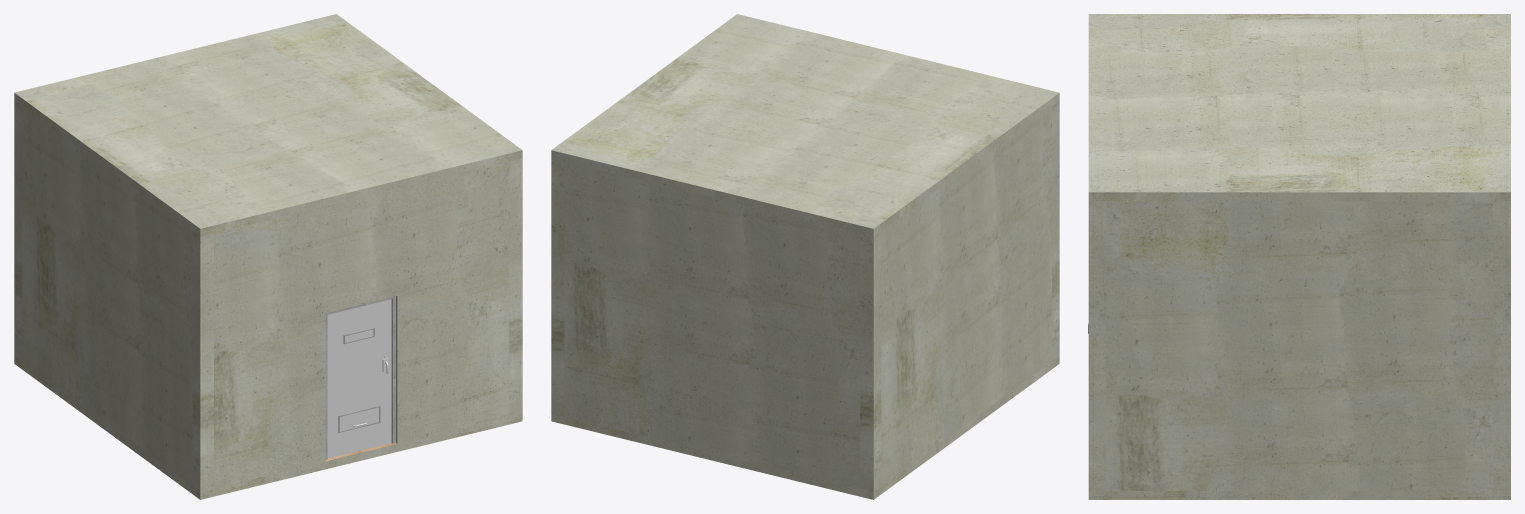
File: Cell1.fbx
3 renders of one model, left to right at view 1: azimuth 30°, elevation 25°; view 2: azimuth 150°, elevation 25°; view 3: azimuth 270°, elevation 25°, orthographic. The views are drawn at different scales.
Visible parts, largest first — view 1: Wall.016, Wall.020, Wall.017, Cube.001, Wall.013, Wall.011, Wall.012, Wall.015, Door; view 2: Wall.019, Wall.020, Wall.017, Wall.015, Wall.011, Wall.014, Wall.013; view 3: Wall.018, Wall.020, Wall.012, Wall.014, Wall.011.
Part boxes in pixels (bbox=[...]): Wall.016: bbox=[214, 161, 509, 488]; Wall.020: bbox=[14, 14, 522, 236]; Wall.017: bbox=[22, 106, 192, 485]; Cube.001: bbox=[327, 299, 391, 458]; Wall.013: bbox=[192, 231, 213, 491]; Wall.011: bbox=[14, 356, 522, 499]; Wall.012: bbox=[509, 158, 522, 416]; Wall.015: bbox=[14, 101, 21, 360]; Door: bbox=[325, 296, 395, 459]; Wall.019: bbox=[564, 161, 859, 488]; Wall.020: bbox=[551, 14, 1059, 236]; Wall.017: bbox=[881, 106, 1051, 485]; Wall.015: bbox=[860, 231, 881, 491]; Wall.011: bbox=[551, 356, 1059, 499]; Wall.014: bbox=[551, 158, 564, 416]; Wall.013: bbox=[1052, 101, 1059, 360]; Wall.018: bbox=[1106, 201, 1493, 490]; Wall.020: bbox=[1088, 14, 1510, 201]; Wall.012: bbox=[1088, 201, 1106, 490]; Wall.014: bbox=[1493, 201, 1510, 490]; Wall.011: bbox=[1088, 491, 1510, 499].
Size of the model in its own units: 102 by 82.29 by 103.
Materials: 10 (5 with a texture image).
